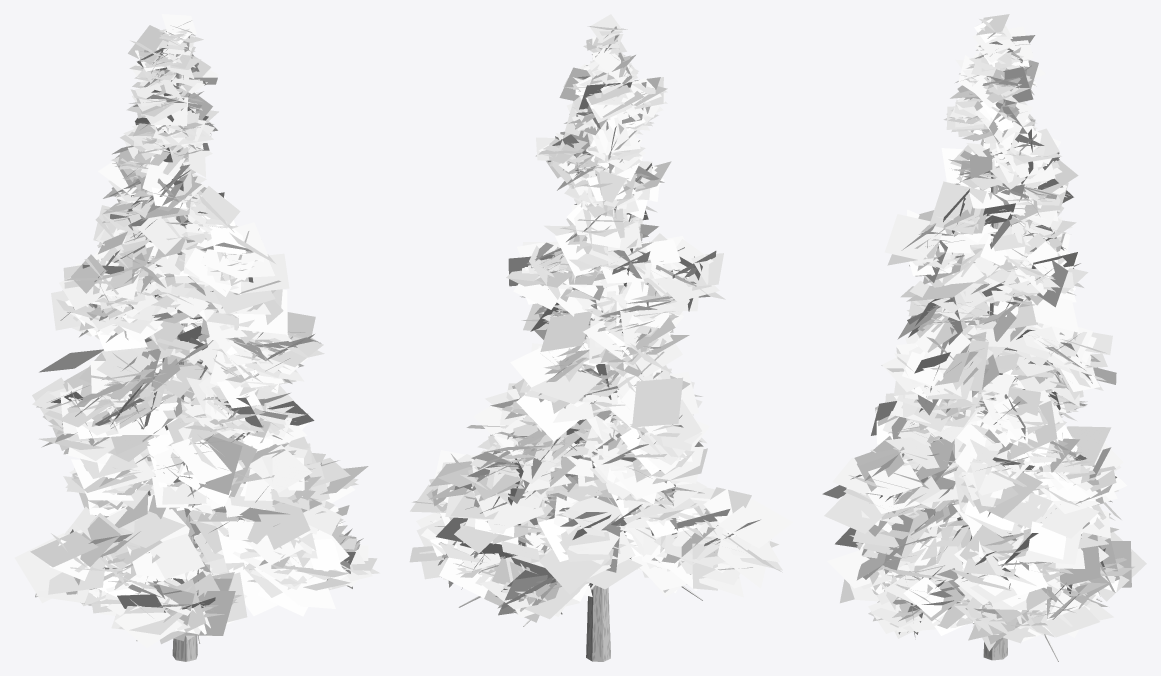
File: IL3DN_style_Pine02_v3_seed17.fbx
The picture shows the model from 3 angles, left to right: view 1: azimuth 30°, elevation 25°; view 2: azimuth 150°, elevation 25°; view 3: azimuth 270°, elevation 25°; orthographic projection.
Parts seen in each view (by area): view 1: StylizedPine_Needles, StylizedPine_Trunk; view 2: StylizedPine_Needles, StylizedPine_Trunk; view 3: StylizedPine_Needles, StylizedPine_Trunk.
Boxes of the visible parts, bbox=[...] form: StylizedPine_Needles: bbox=[14, 14, 379, 647]; StylizedPine_Trunk: bbox=[136, 73, 202, 661]; StylizedPine_Needles: bbox=[409, 14, 792, 622]; StylizedPine_Trunk: bbox=[458, 112, 703, 661]; StylizedPine_Needles: bbox=[822, 14, 1146, 651]; StylizedPine_Trunk: bbox=[940, 145, 1102, 661].
Bounding box in the file's own units: 5.05 × 9 × 4.18.
Materials: 2 (2 with a texture image).
